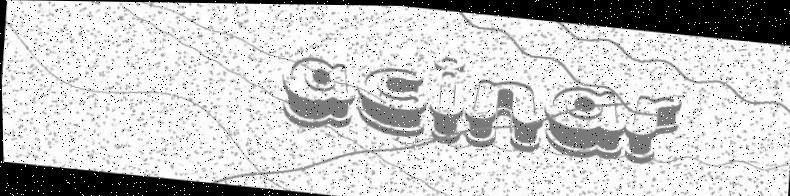a: (540, 81, 628, 162), (277, 53, 360, 132)
c: (352, 62, 432, 138)
i: (426, 51, 469, 145)
n: (460, 72, 548, 153)
r: (620, 90, 684, 166)
